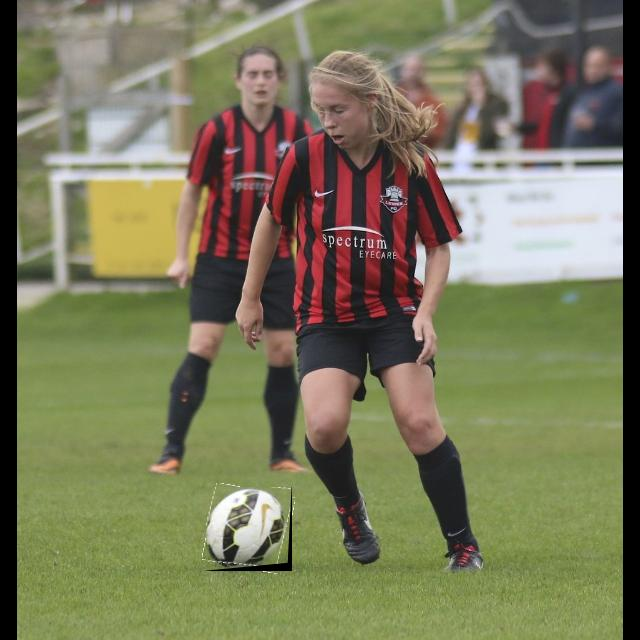Football: (206, 487, 292, 571)
